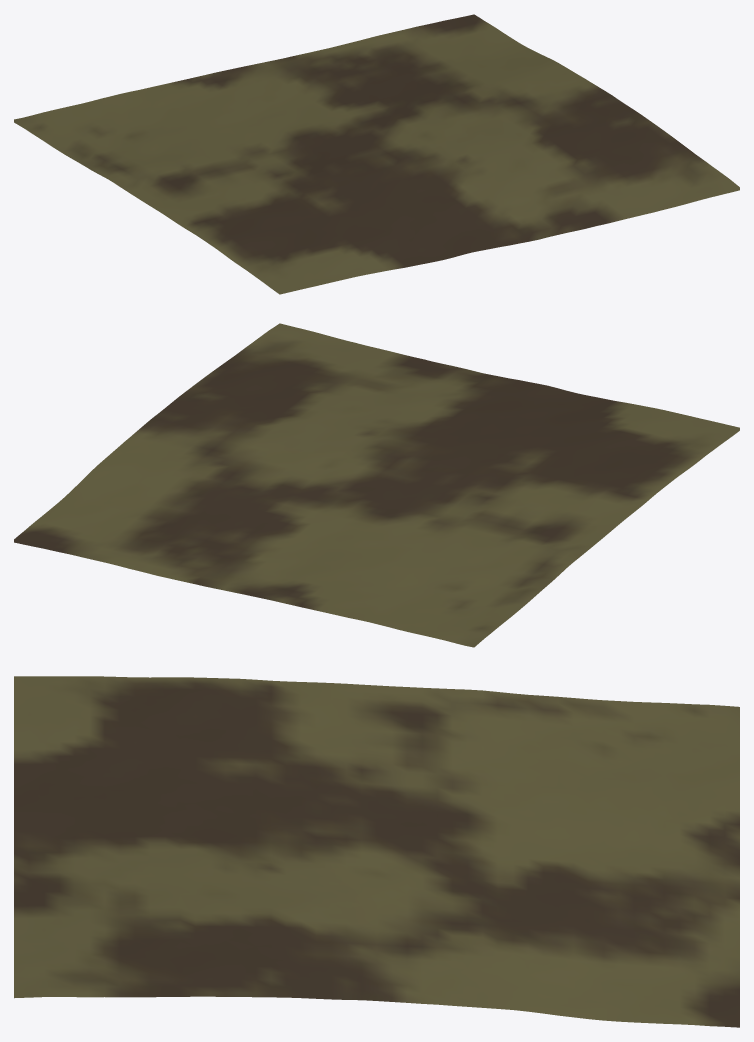
File: land_m_03_10.glb
The picture shows the model from 3 angles, top to bottom: view 1: azimuth 30°, elevation 25°; view 2: azimuth 150°, elevation 25°; view 3: azimuth 270°, elevation 25°; orthographic projection. The views are drawn at different scales.
Visible parts, largest first — view 1: land_m_03_10; view 2: land_m_03_10; view 3: land_m_03_10.
Boxes of the visible parts, left/top/right/bottom form: land_m_03_10: left=14, top=14, right=739, bottom=294; land_m_03_10: left=14, top=323, right=739, bottom=647; land_m_03_10: left=14, top=676, right=739, bottom=1027.
Size of the model in its own units: 960 by 65.08 by 960.
